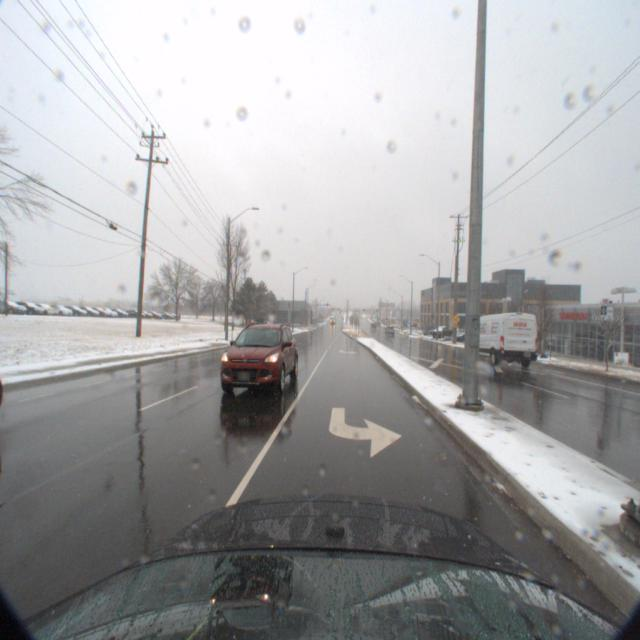Car: (212, 321, 304, 408), (462, 308, 542, 369)
